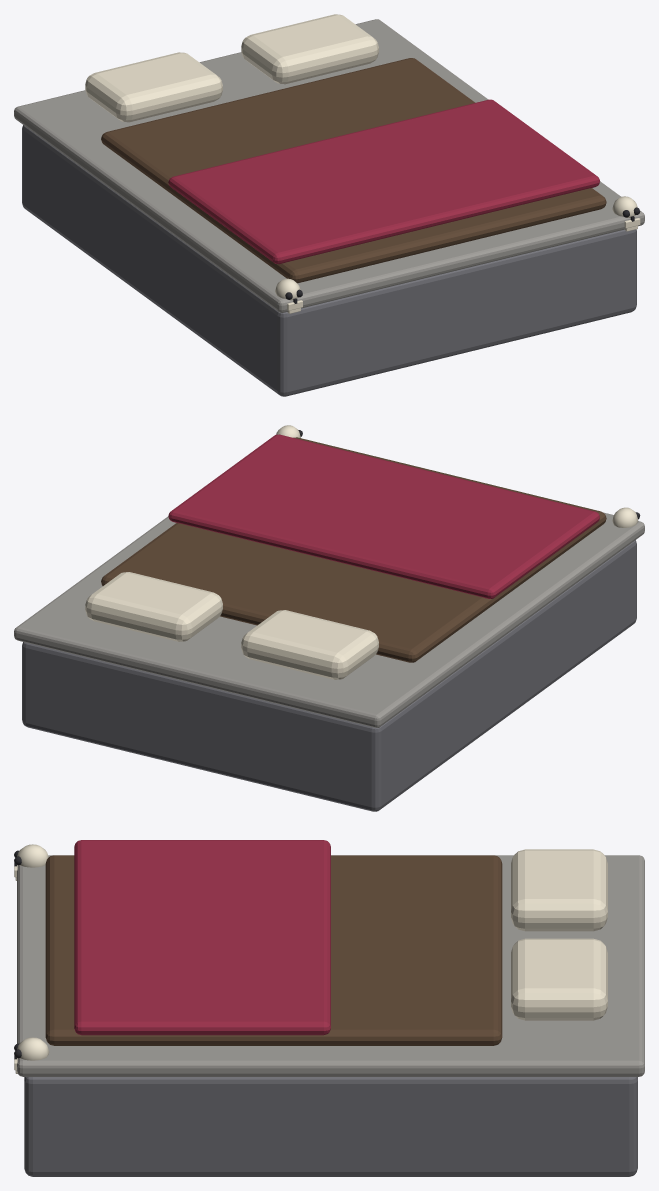
File: bed_stone_slab.glb
3 renders of one model, top to bottom at view 1: azimuth 30°, elevation 25°; view 2: azimuth 150°, elevation 25°; view 3: azimuth 270°, elevation 25°, orthographic. The views are drawn at different scales.
Parts seen in each view (by area): view 1: GD_bed_stone_slab__m0, GD_bed_stone_slab__m6, GD_bed_stone_slab__m5, GD_bed_stone_slab__m1, GD_bed_stone_slab__m3; view 2: GD_bed_stone_slab__m0, GD_bed_stone_slab__m6, GD_bed_stone_slab__m1, GD_bed_stone_slab__m5, GD_bed_stone_slab__m3; view 3: GD_bed_stone_slab__m0, GD_bed_stone_slab__m6, GD_bed_stone_slab__m5, GD_bed_stone_slab__m1, GD_bed_stone_slab__m3.
Part boxes in pixels (box(x1,y1,x2,y2)): GD_bed_stone_slab__m0: box(22, 125, 636, 396); GD_bed_stone_slab__m6: box(168, 99, 599, 264); GD_bed_stone_slab__m5: box(101, 58, 606, 283); GD_bed_stone_slab__m1: box(14, 19, 644, 312); GD_bed_stone_slab__m3: box(85, 14, 640, 313); GD_bed_stone_slab__m0: box(22, 540, 636, 811); GD_bed_stone_slab__m6: box(168, 434, 599, 598); GD_bed_stone_slab__m1: box(14, 512, 644, 727); GD_bed_stone_slab__m5: box(101, 437, 606, 662); GD_bed_stone_slab__m3: box(85, 425, 638, 679); GD_bed_stone_slab__m0: box(24, 1077, 637, 1176); GD_bed_stone_slab__m6: box(74, 840, 330, 1035); GD_bed_stone_slab__m5: box(45, 855, 502, 1045); GD_bed_stone_slab__m1: box(17, 855, 644, 1076); GD_bed_stone_slab__m3: box(14, 844, 607, 1073).
Bounding box in the file's own units: 1.74 × 0.61 × 2.21.
